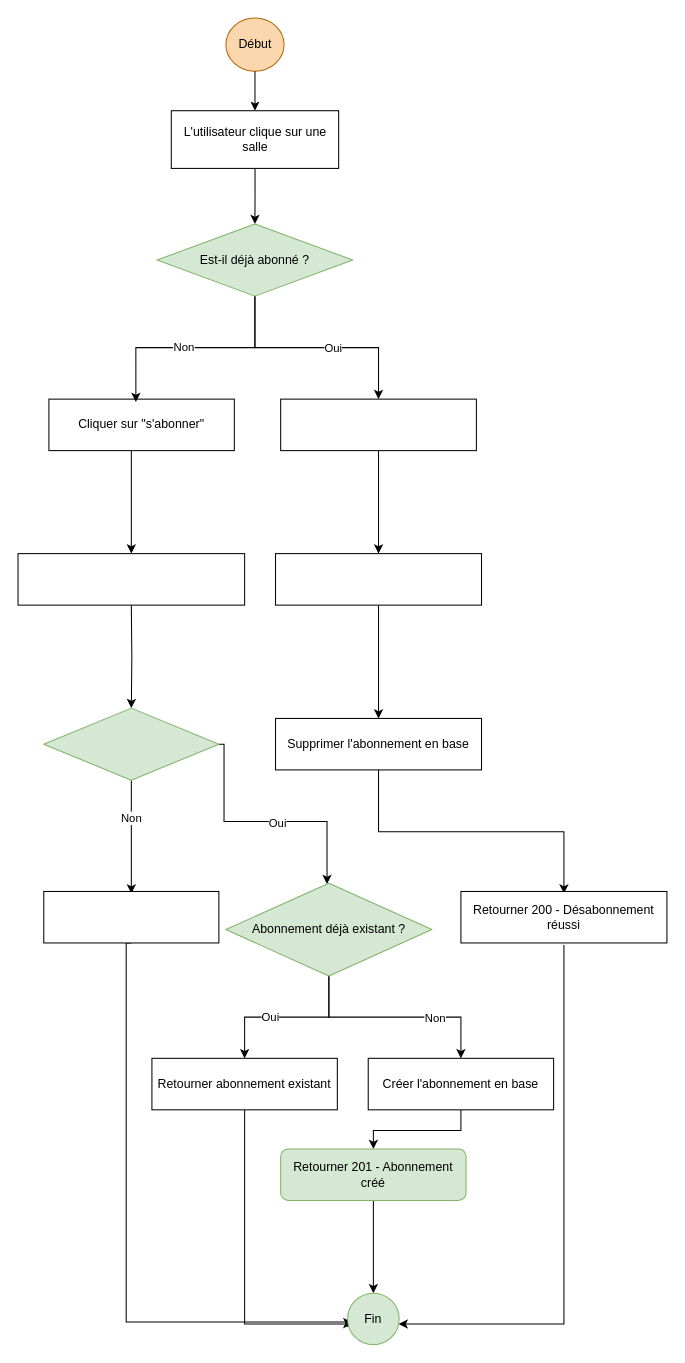
Some shapes in this 685 by 1363 pixel diagram are drawn without their labels. Here are the shapes that lost their labels. From the top down, the centre of each, then its label:
(x=378, y=424): Cliquer sur "se désabonner"
(x=131, y=579): POST /api/subscriptions/rooms/:roomId
(x=378, y=579): DELETE /api/subscriptions/rooms/:roomId
(x=131, y=743): La salle existe ?
(x=131, y=916): Retourner erreur 404
